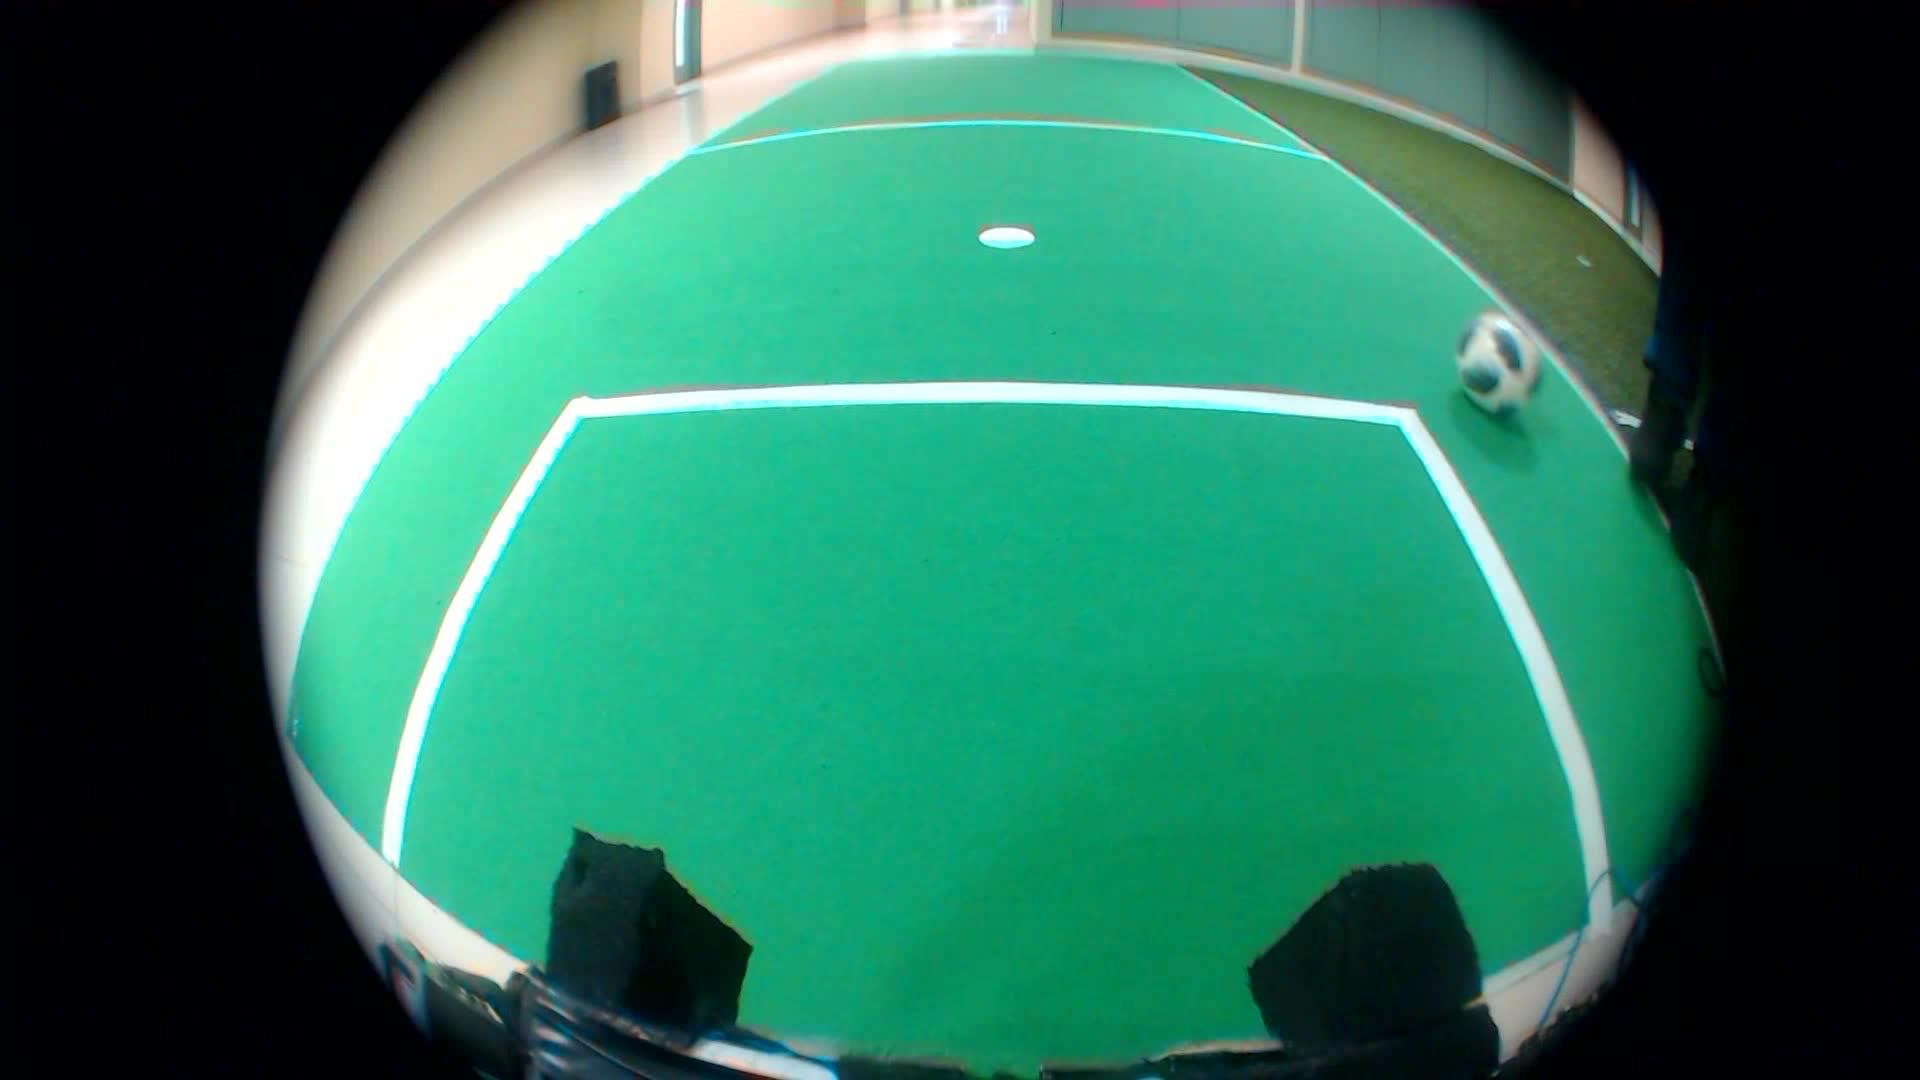ball: (1440, 305, 1555, 429)
